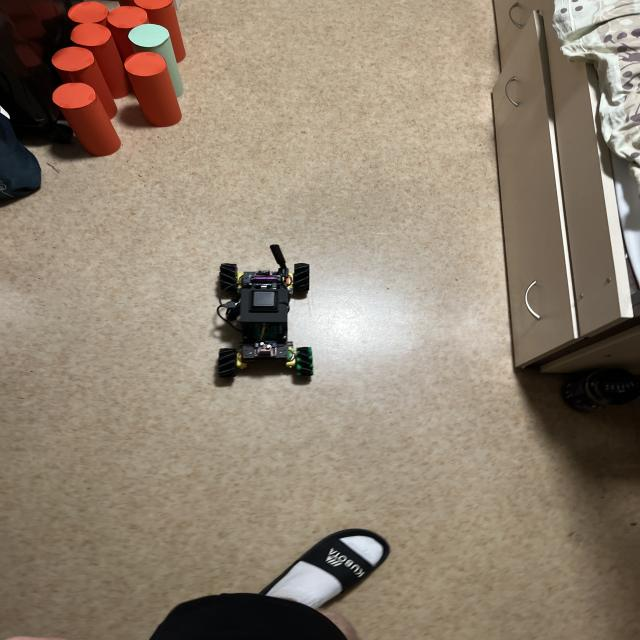robot: (216, 244, 313, 378)
